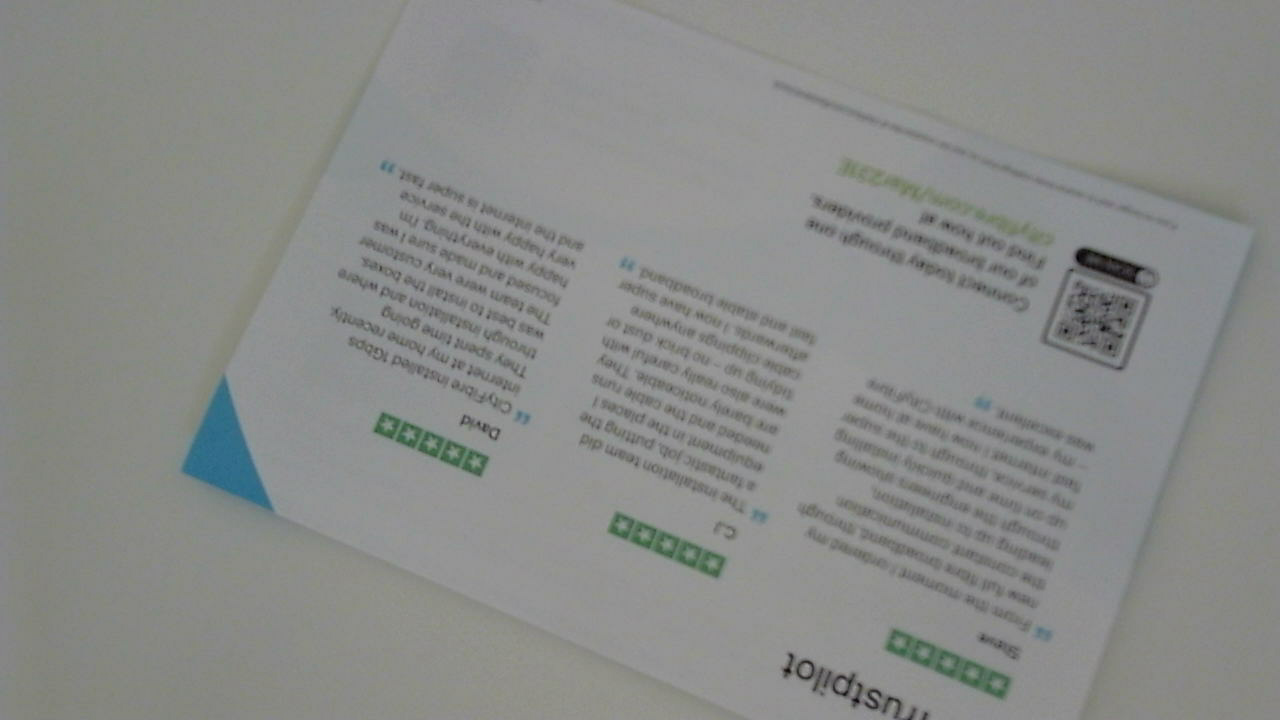Mixed Paper: (182, 11, 1267, 720)
